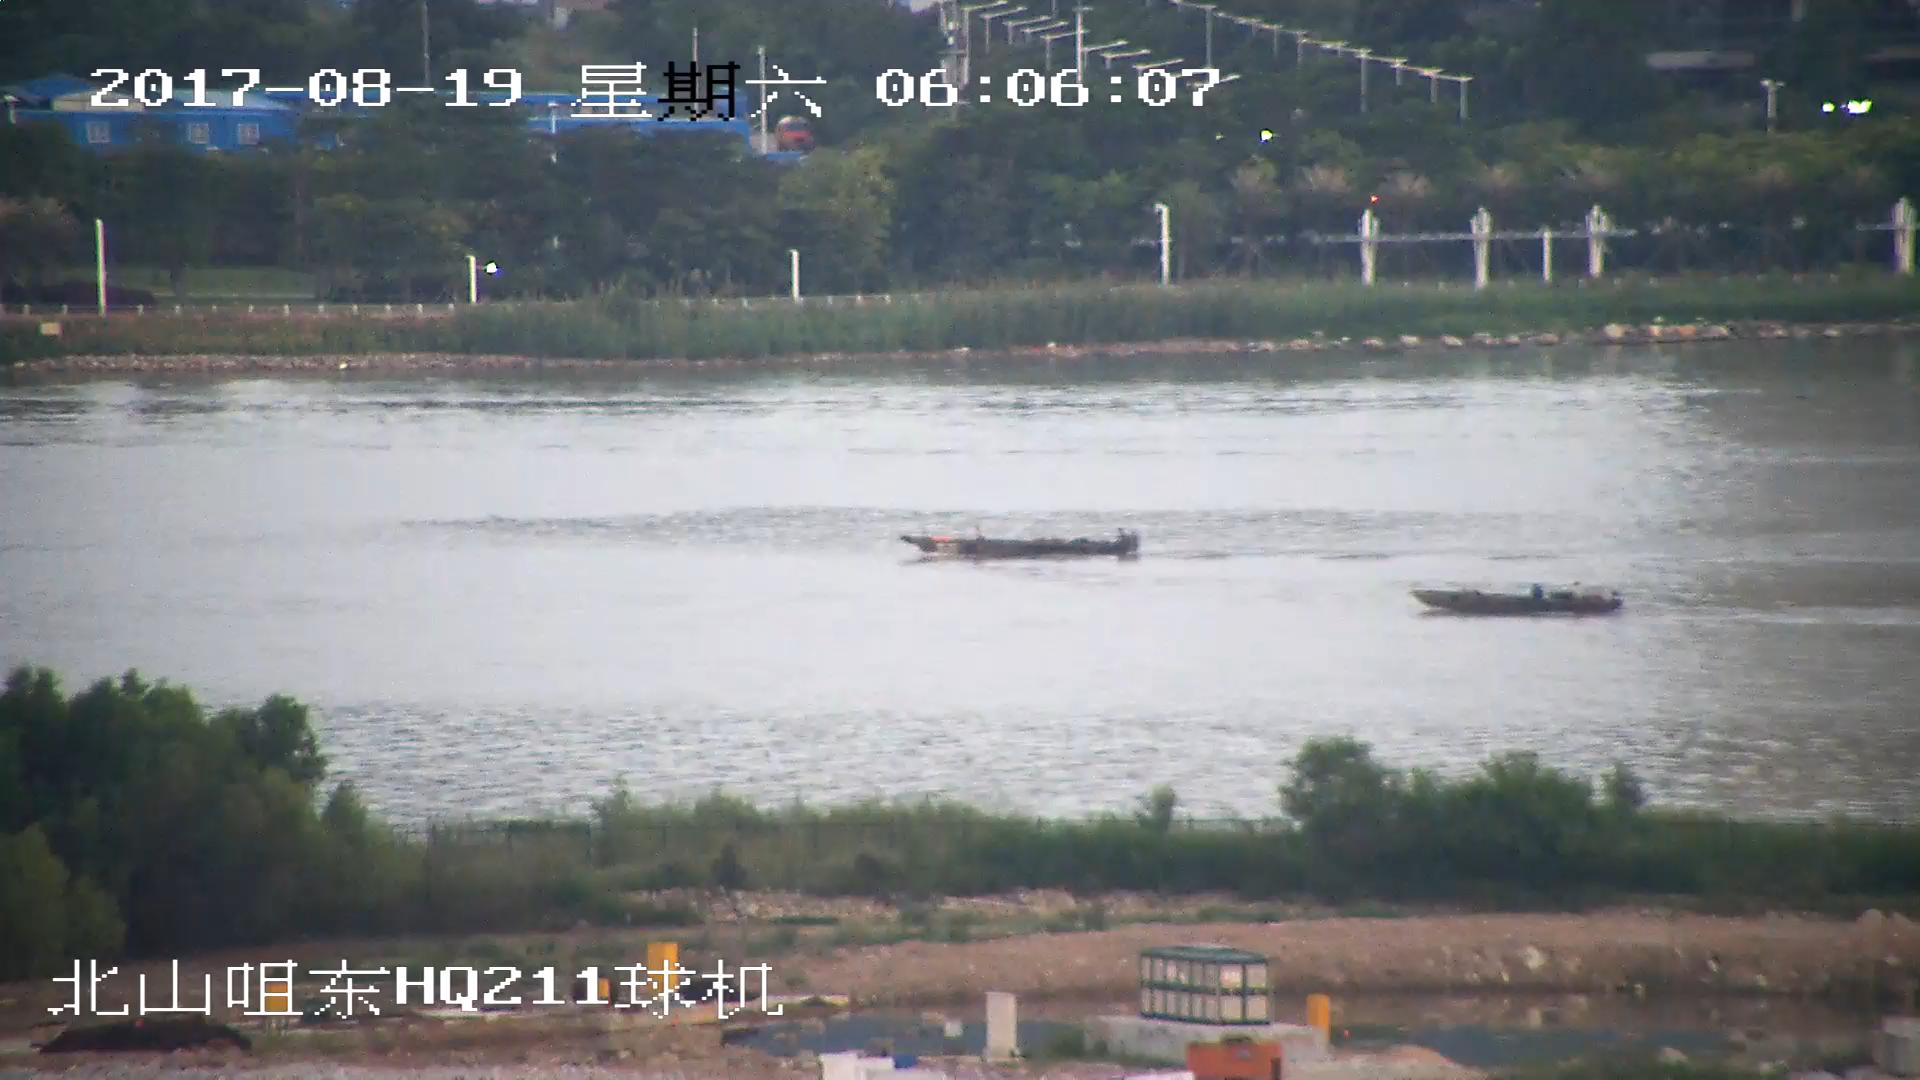fishing boat: (1414, 575, 1623, 618), (902, 524, 1145, 561)
